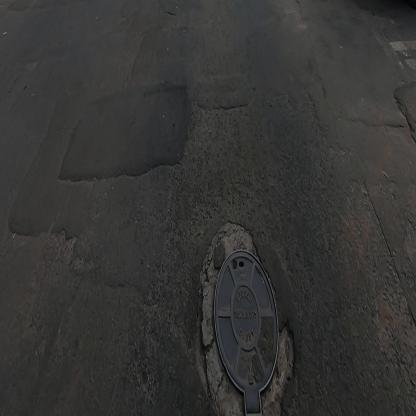manholes: (210, 243, 286, 416)
